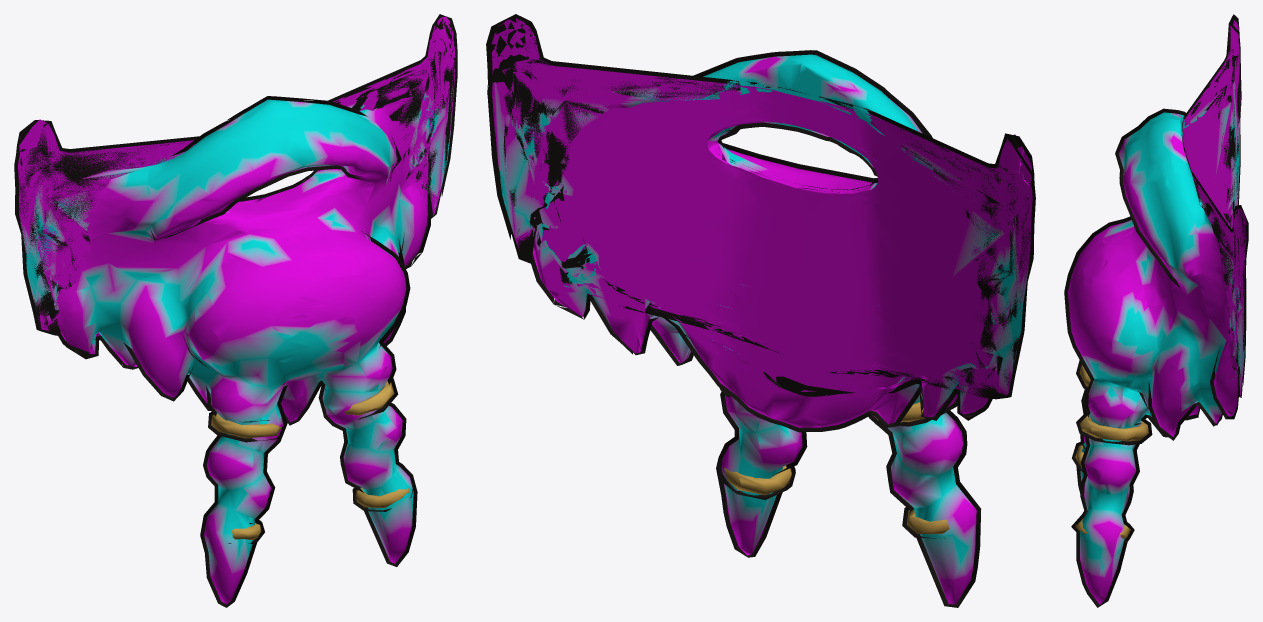
The model's file is beard_forked_male_hi.glb.
3 renders of one model, left to right at view 1: azimuth 30°, elevation 25°; view 2: azimuth 150°, elevation 25°; view 3: azimuth 270°, elevation 25°, orthographic. The views are drawn at different scales.
Visible parts, largest first — view 1: beard_forked_male_hi; view 2: beard_forked_male_hi; view 3: beard_forked_male_hi.
Part boxes in pixels (<box>): beard_forked_male_hi: <box>14,14,457,607</box>; beard_forked_male_hi: <box>486,14,1035,607</box>; beard_forked_male_hi: <box>1064,14,1248,607</box>.
Size of the model in its own units: 0.464 by 0.4676 by 0.1706.
